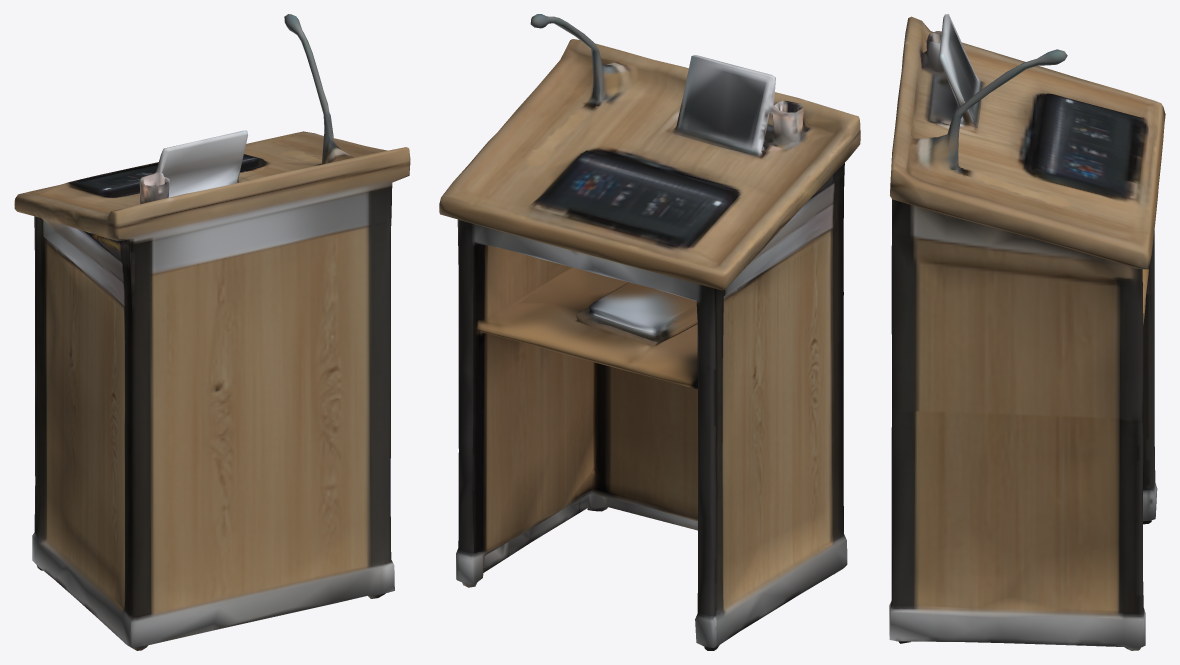
The model's file is SM_rishi_jiangtai.fbx.
3 views of the same model, side by side, from view 1: azimuth 30°, elevation 25°; view 2: azimuth 150°, elevation 25°; view 3: azimuth 270°, elevation 25° (orthographic). The views are drawn at different scales.
Visible parts, largest first — view 1: polySurface15; view 2: polySurface15; view 3: polySurface15.
Boxes of the visible parts, box(x1,y1,x2,y2) form: polySurface15: box(14, 14, 410, 650); polySurface15: box(439, 14, 860, 650); polySurface15: box(889, 14, 1165, 650).
Bounding box in the file's own units: 45.59 × 77.78 × 33.34.
1 material, 1 textured.
